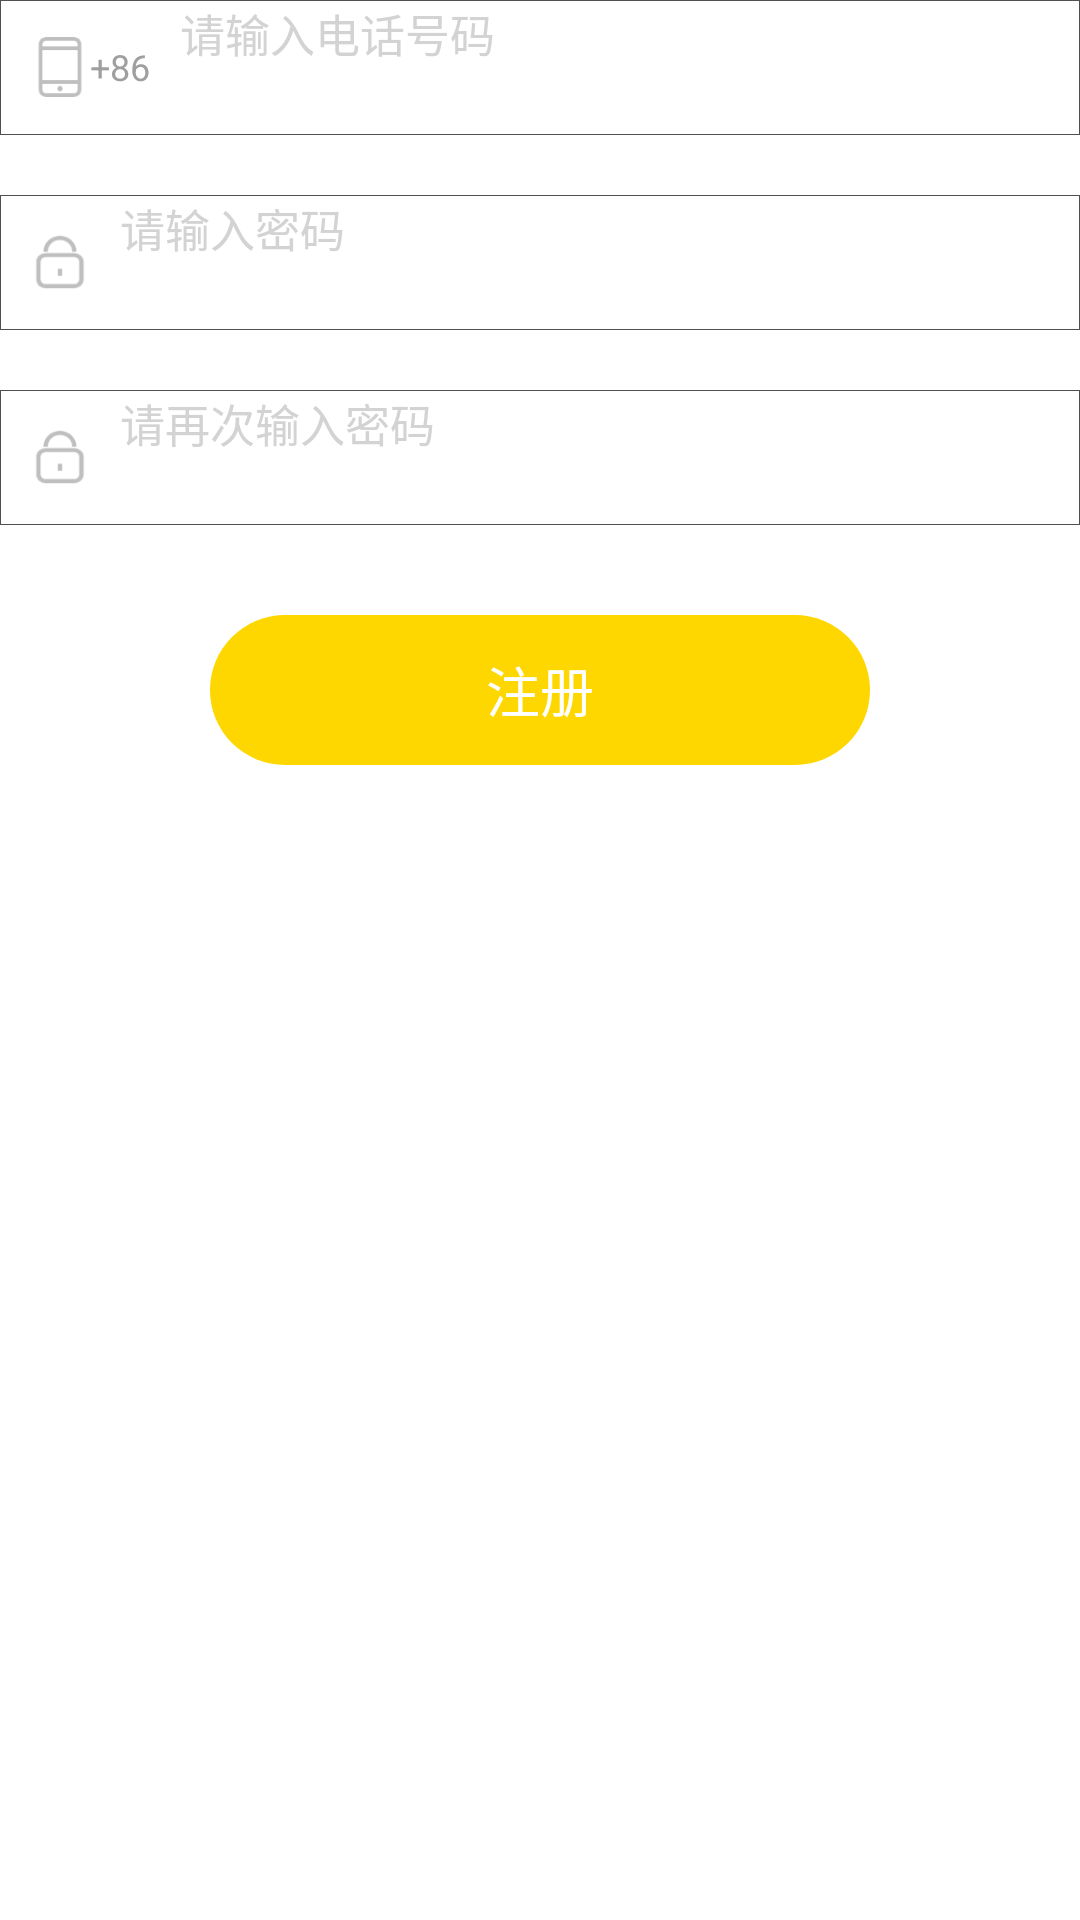

Icons on this 1080px×1920px Android screen, each with the point to tap as point (x, y):
password: point (60, 262), point (60, 457)
tel: point (60, 67)
